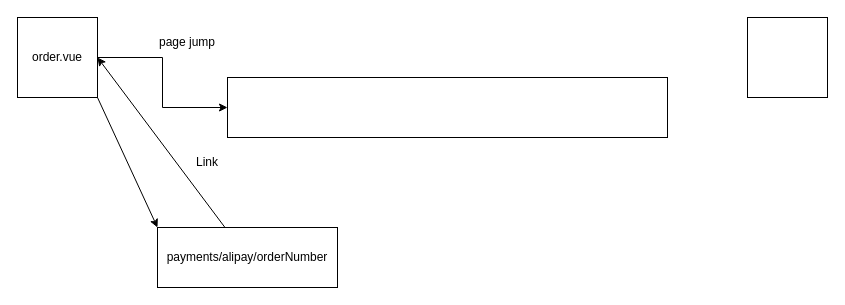
Image size: 845x305. Some labels were removed from this diagram. Each missing label, with the box of its shape:
AliPay SandBox: (226, 76, 668, 138)
success.vue: (746, 16, 828, 98)
